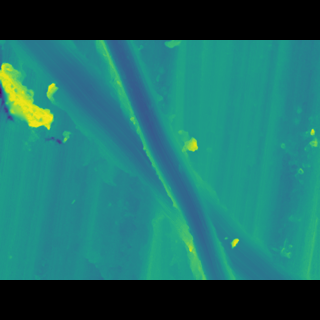Loch: (5, 70, 301, 250), (105, 70, 233, 250)
